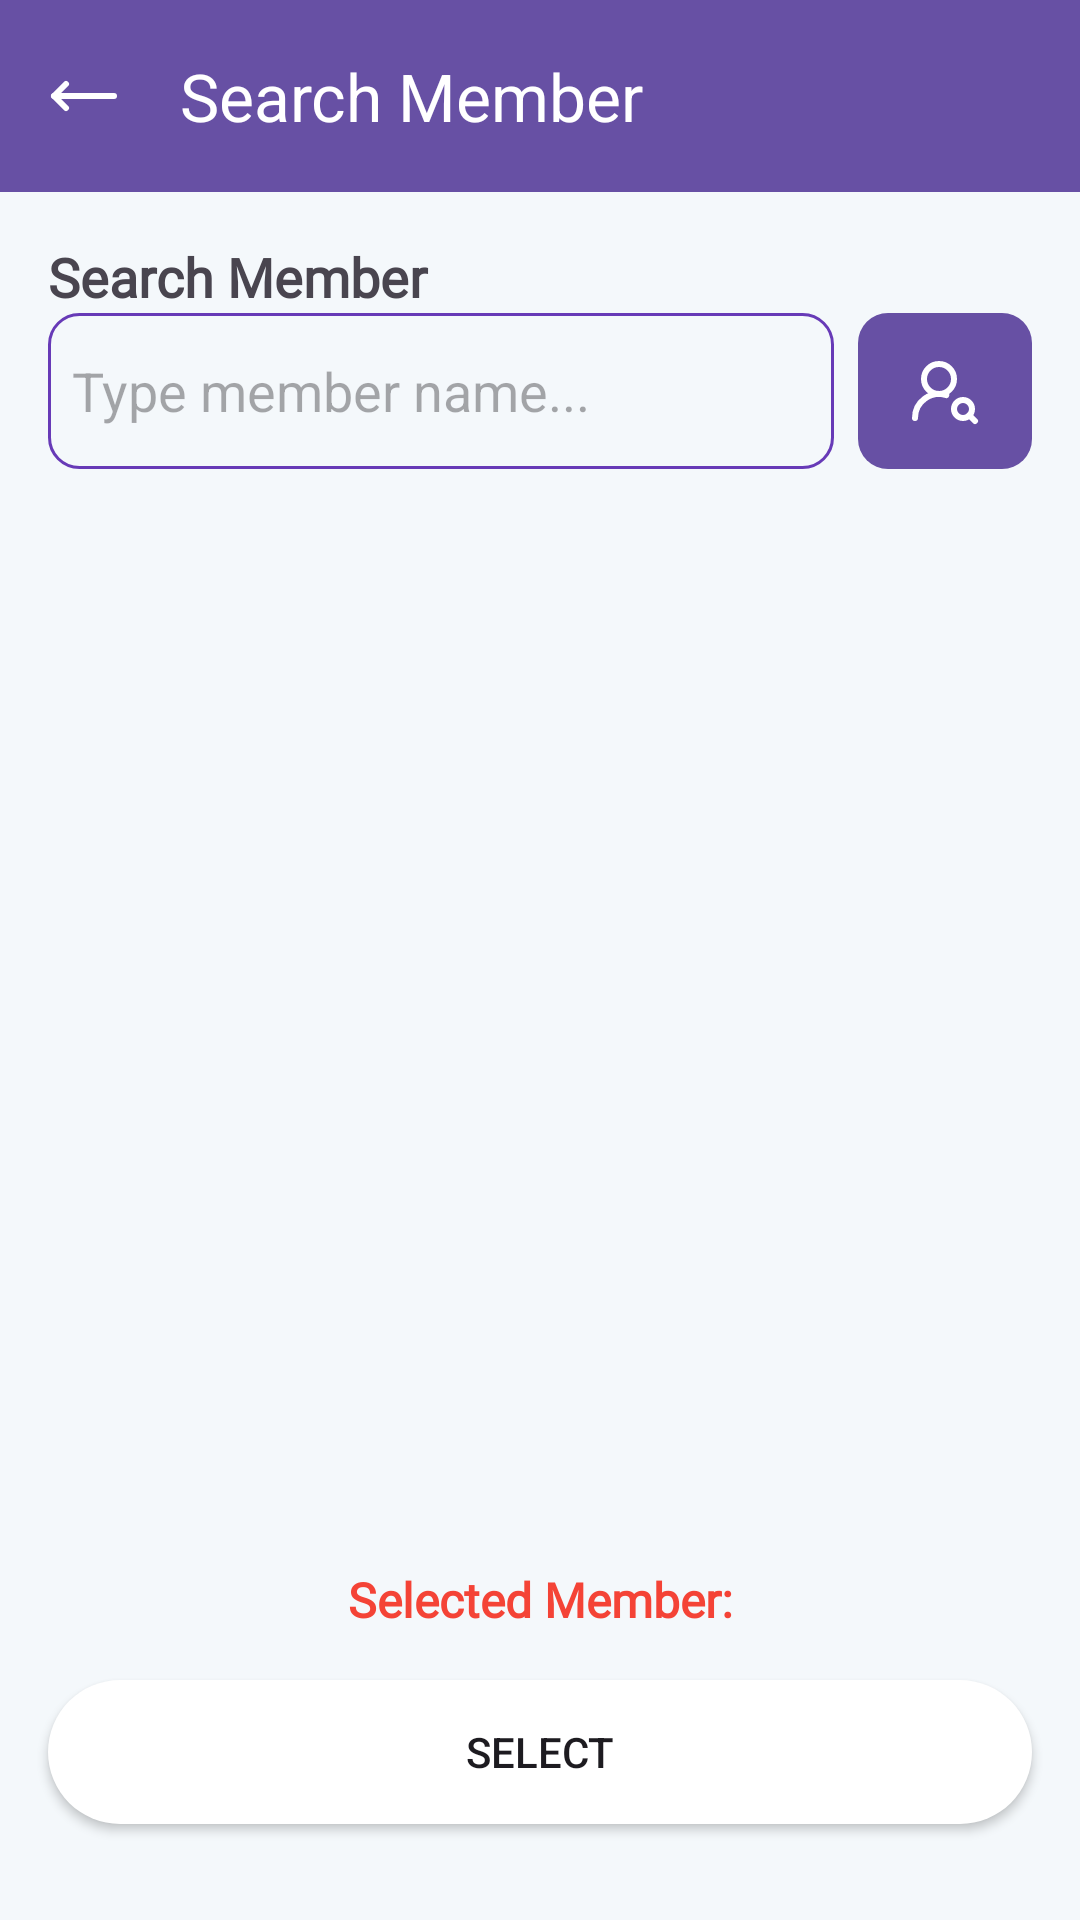

Where to tap for icons on this 1080*1920 app screen, as (x,y):
user round search: (945,391)
